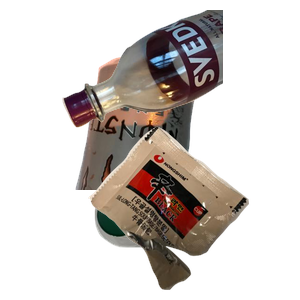glass: (60, 10, 300, 130)
metal: (73, 52, 263, 232)
plastic: (92, 176, 257, 300)
trash: (86, 124, 300, 300)
